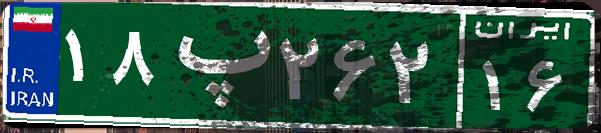1: (57, 26, 110, 107), (475, 38, 525, 113)
2: (385, 28, 445, 110), (273, 28, 330, 110)
6: (330, 28, 385, 110), (525, 38, 570, 115)
8: (110, 28, 158, 105)
پ: (158, 15, 273, 115)
